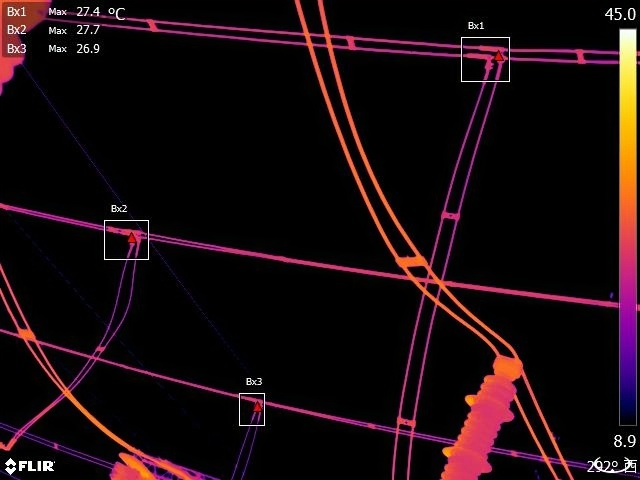clamp: (478, 41, 514, 73), (119, 224, 151, 258), (246, 390, 271, 417)
post insulator: (430, 356, 534, 480)
